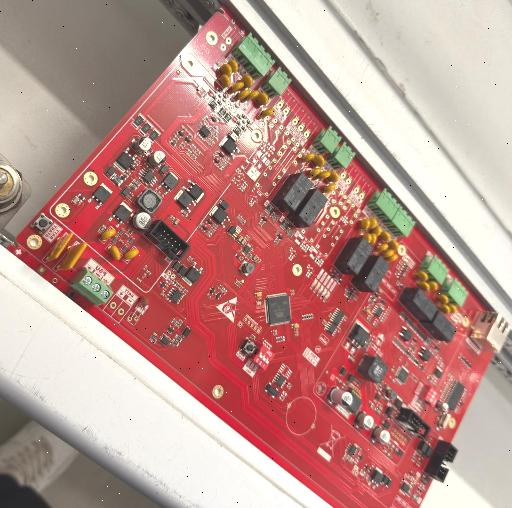var: (58, 241, 87, 271), (46, 232, 73, 263), (100, 227, 116, 241), (107, 246, 121, 261), (255, 92, 269, 106), (124, 248, 139, 261), (218, 74, 231, 88), (311, 155, 325, 168), (240, 74, 253, 88), (219, 63, 233, 76), (236, 89, 251, 101), (325, 171, 339, 183), (260, 108, 275, 119), (231, 81, 244, 93), (378, 241, 391, 253), (308, 168, 322, 179), (227, 59, 238, 73), (435, 294, 449, 305), (414, 271, 428, 282), (316, 171, 331, 181), (358, 219, 373, 229), (301, 153, 315, 163), (429, 282, 440, 294), (370, 217, 379, 231), (380, 233, 392, 243), (323, 184, 336, 193), (383, 250, 396, 259), (418, 285, 431, 293), (388, 254, 399, 263), (449, 306, 458, 316), (374, 227, 383, 237), (439, 307, 453, 313), (363, 235, 373, 243), (391, 241, 399, 250)
